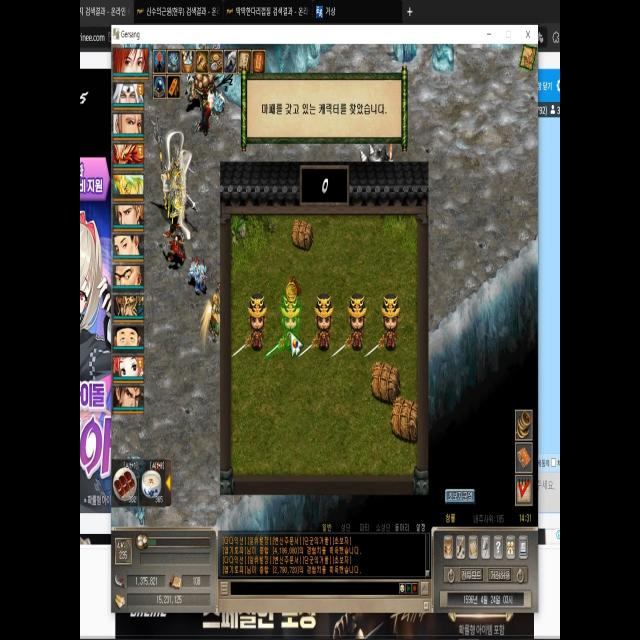character_brown: (280, 293, 302, 351), (380, 294, 401, 351), (247, 293, 267, 352), (347, 293, 367, 351), (314, 294, 334, 351)
medal: (286, 275, 302, 304)
